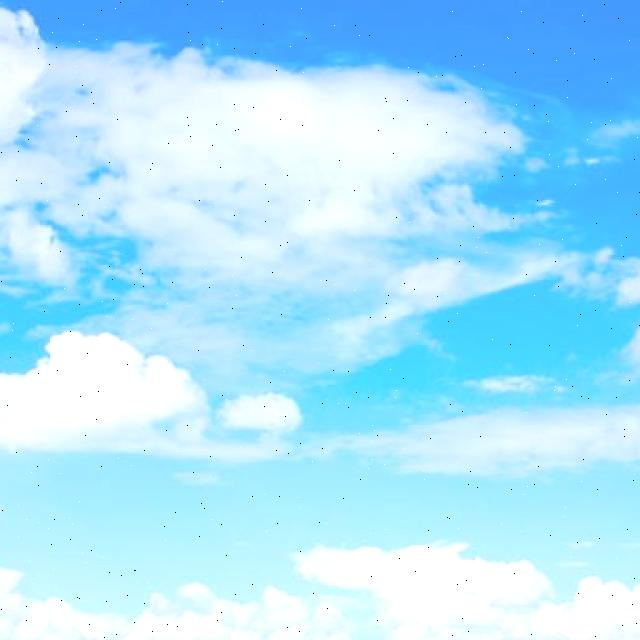Cu: (1, 80, 640, 615)
